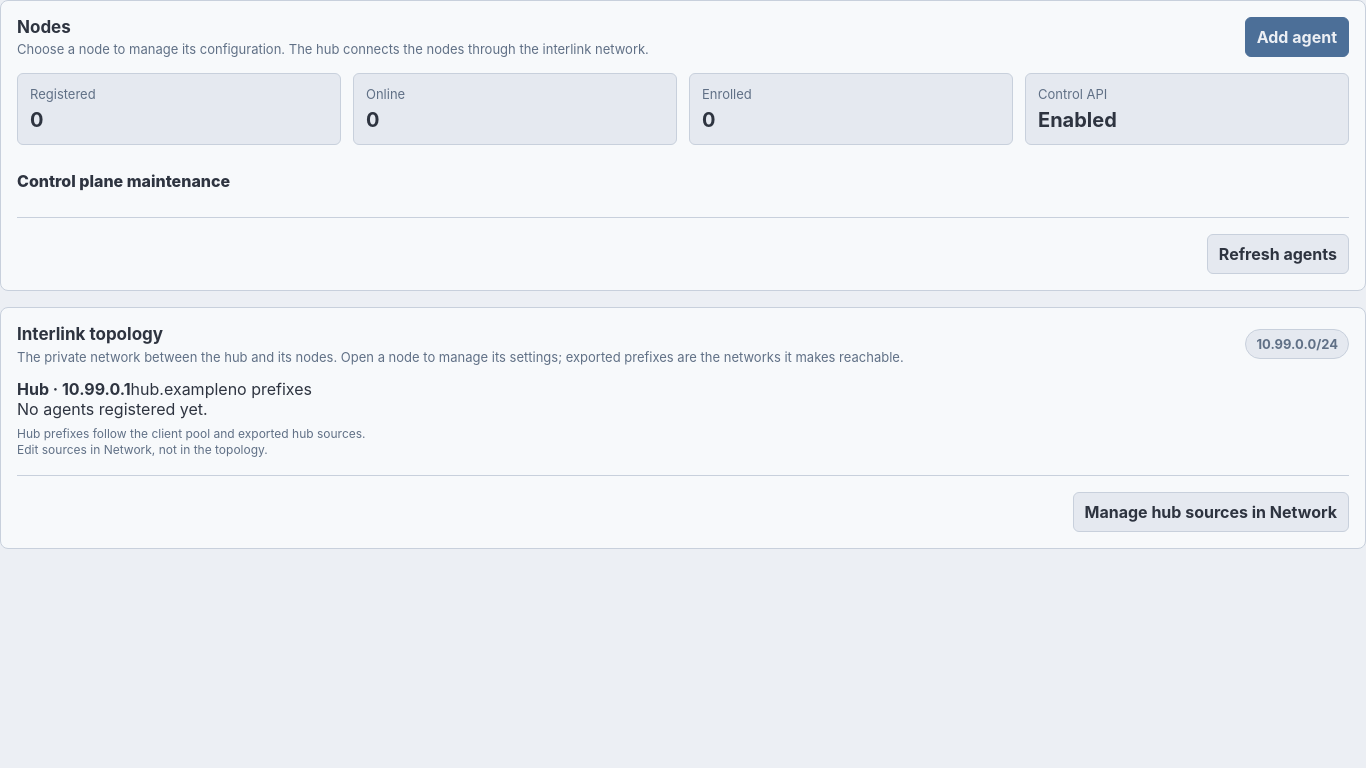
Test: Agent management › shows backend errors and does not fabricate a successful enrollment
Expected: the text "No agents registered yet." is shown, [17, 398, 208, 418]
Click the button "Add agent". click: {"x": 1297, "y": 37}
box: [1245, 17, 1349, 57]
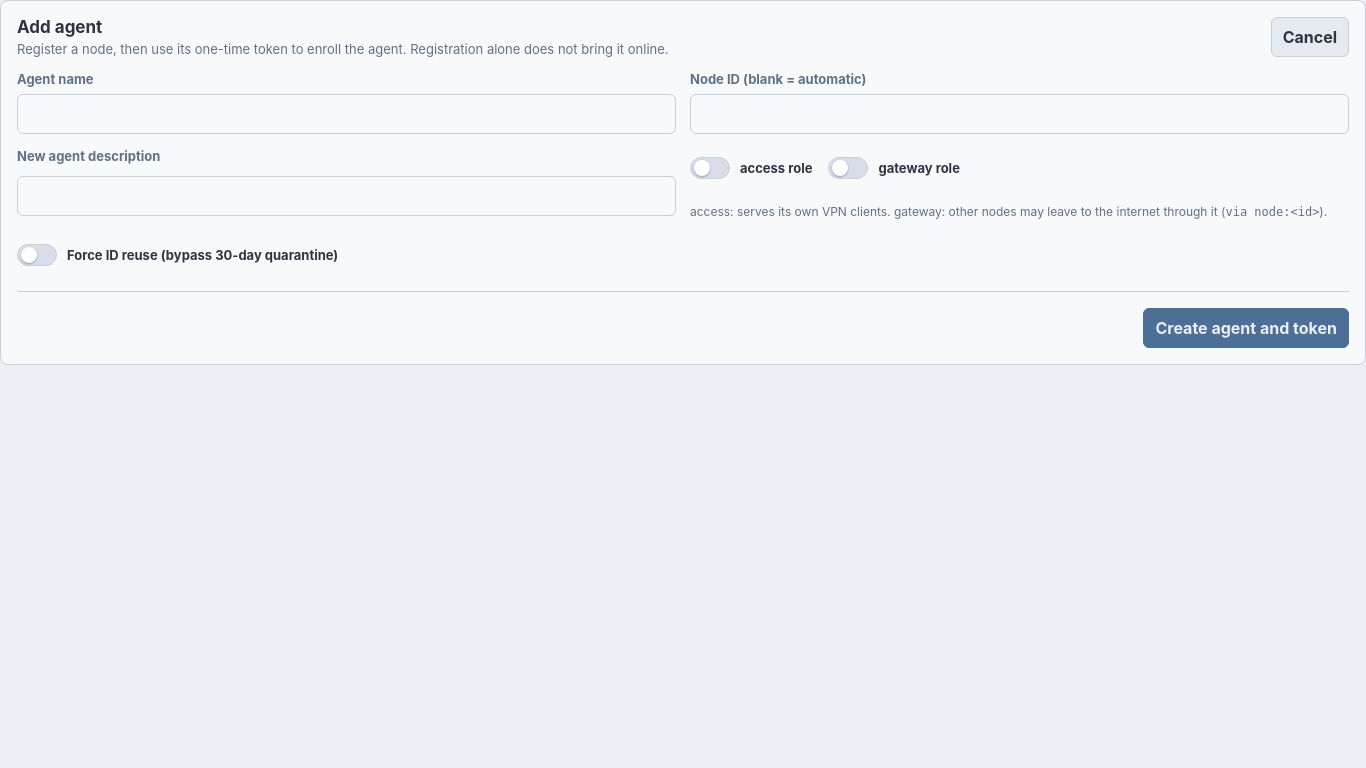
Type "branch" into the field labelled "Agent name". click: {"x": 346, "y": 114}
box: [17, 94, 676, 134]
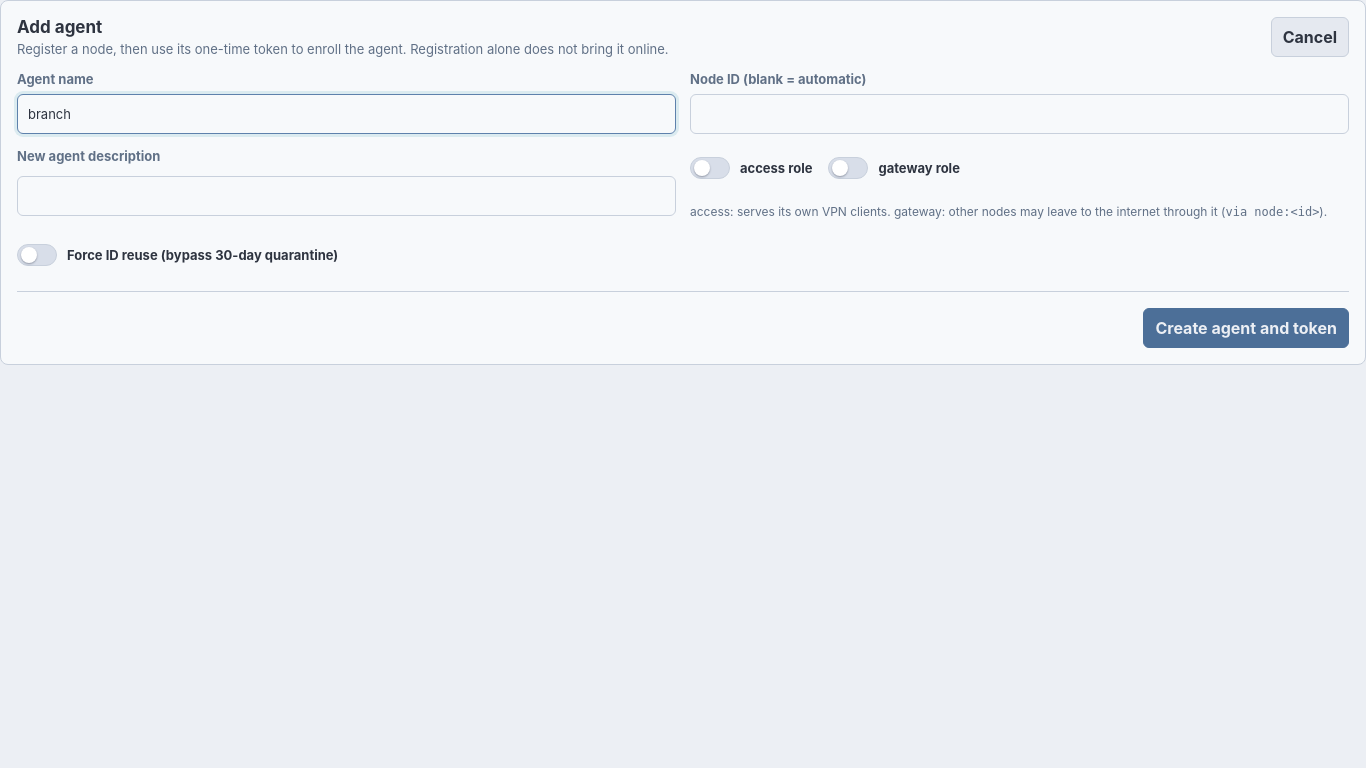
Click the button "Create agent and token". click: {"x": 1246, "y": 328}
box: [1143, 308, 1349, 348]
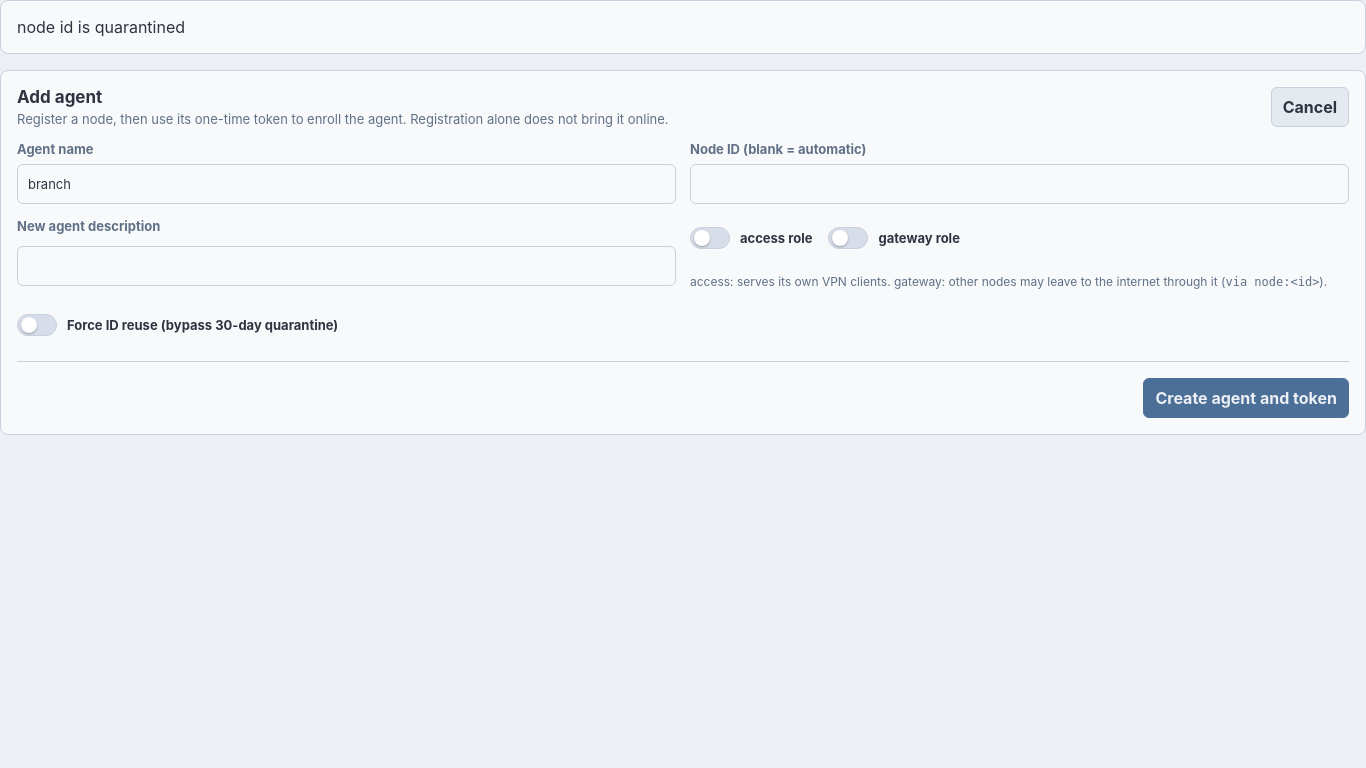
Expected: the message shows "quarantined", [17, 17, 185, 37]
